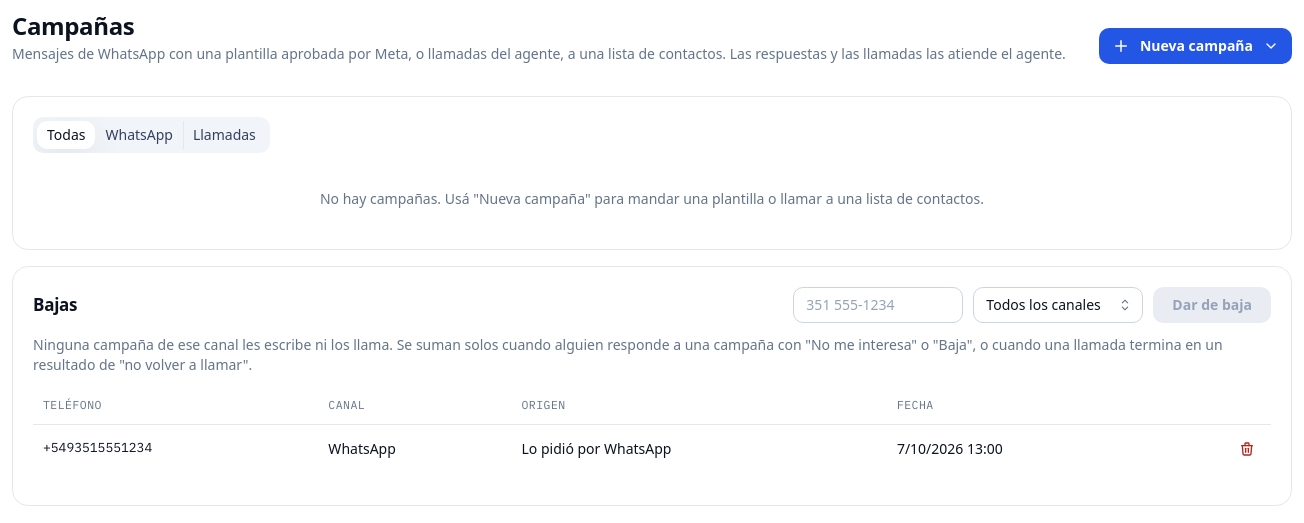
Test: campañas: lista › el plan sin un canal lo deshabilita con el motivo
Expected: the text "No hay campañas" is shown, x1=320 y1=189 x2=984 y2=208
What coordinates should you click on to do the following:
click the button "Nueva campaña"
I would click on:
 (1196, 46)
Its box is x1=1099 y1=28 x2=1292 y2=64.
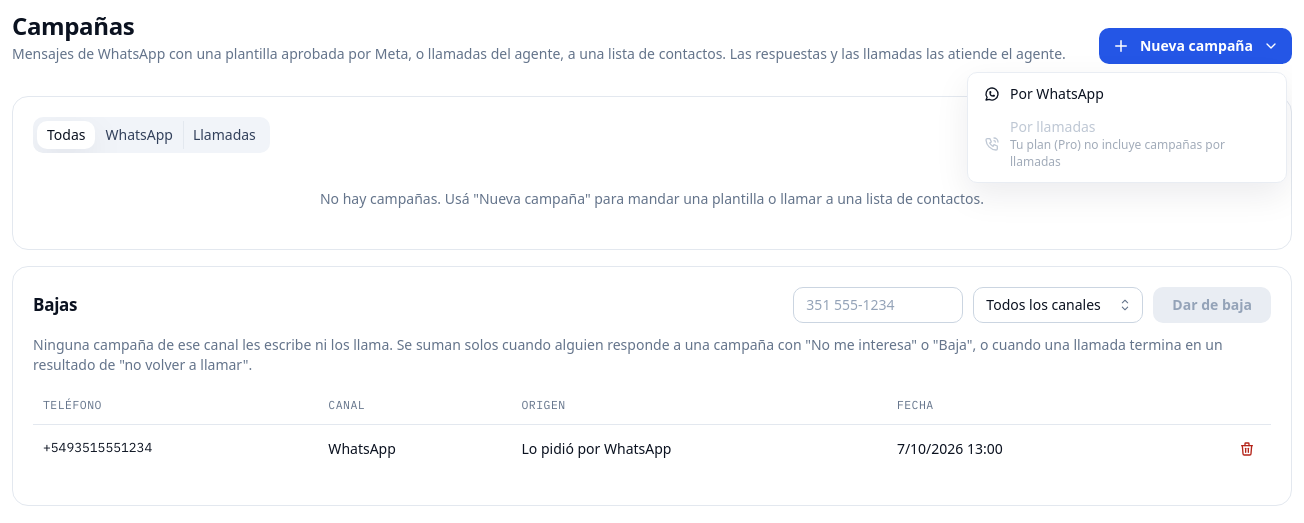
Result: the text "Tu plan (Pro) no incluye campañas por llamadas" is shown at x1=1010 y1=136 x2=1225 y2=170
Result: the menu item "Por llamadas Tu plan (Pro) no incluye campañas por llamadas" is disabled at x1=972 y1=110 x2=1282 y2=178
Result: the menu item "Por WhatsApp" is enabled at x1=972 y1=77 x2=1282 y2=110
